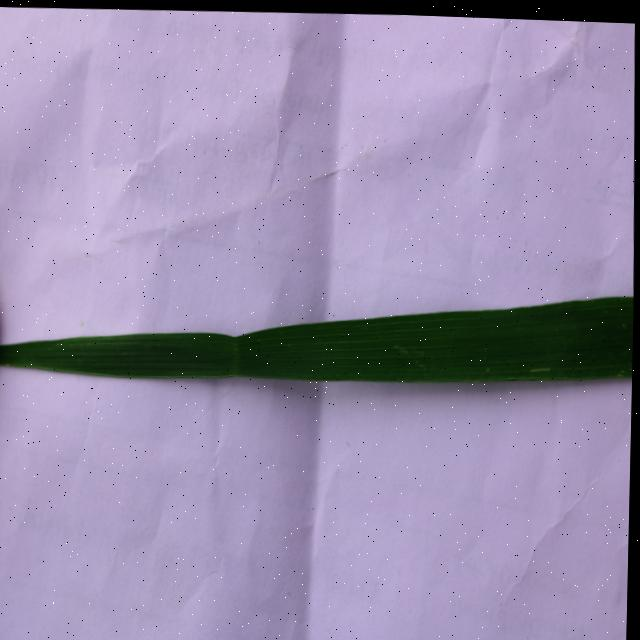healthy_wheat: (0, 252, 636, 437)
